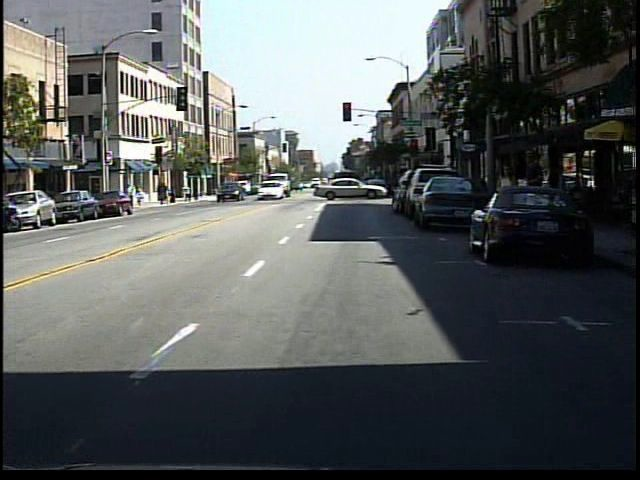person: (516, 147, 547, 246), (496, 155, 520, 241), (137, 182, 150, 209), (123, 178, 138, 201)
